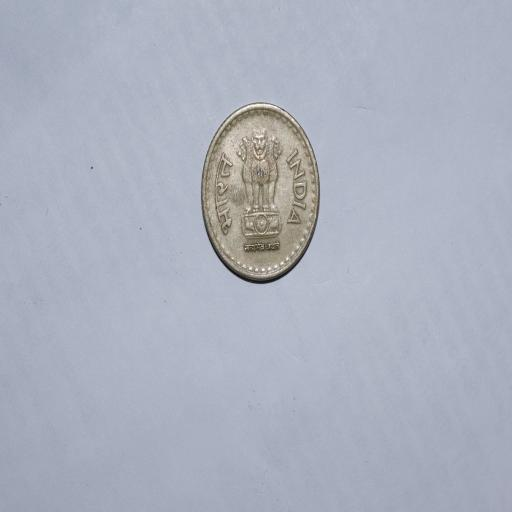rupee5: (197, 101, 322, 286)
